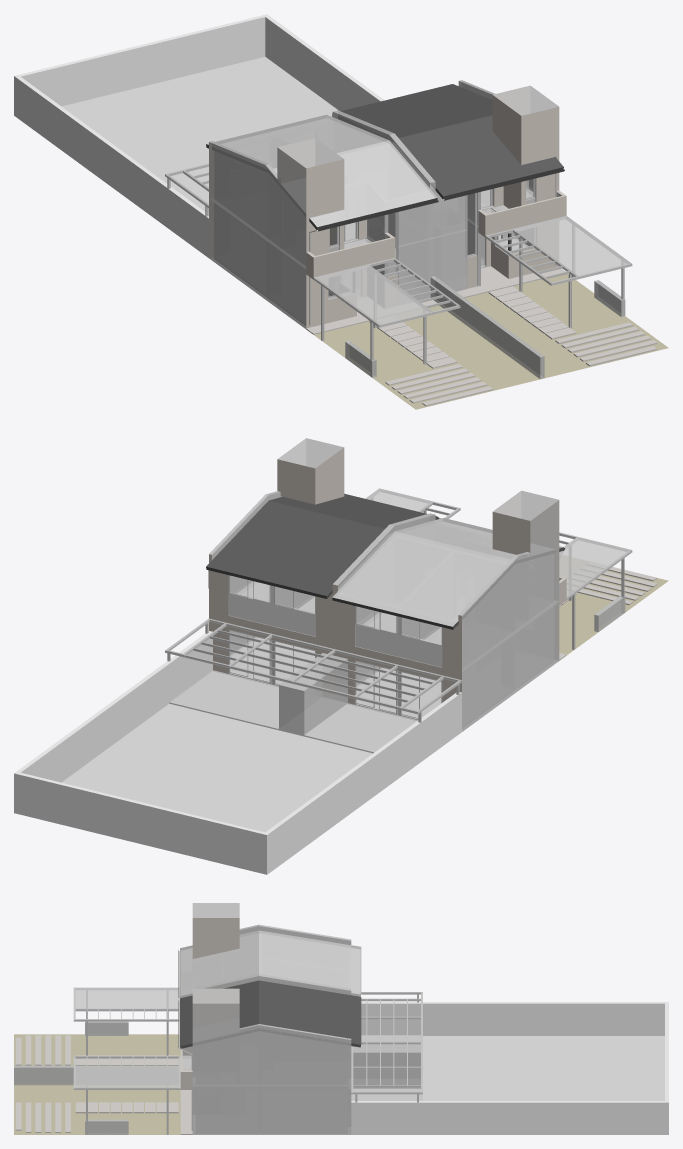
File: obra-porta.glb
3 views of the same model, one above another, from view 1: azimuth 30°, elevation 25°; view 2: azimuth 150°, elevation 25°; view 3: azimuth 270°, elevation 25° (orthographic). The views are drawn at different scales.
Parts seen in each view (by area): view 1: Node1187, Node1188, Node509, Node506, Node635, Node858, Node11, Node854, Node759, Node10, Node857, Node863 (+30 smaller); view 2: Node1187, Node505, Node857, Node853, Node851, Node506, Node477, Node502, Node269, Node635, Node11, Node759 (+35 smaller); view 3: Node1187, Node504, Node508, Node829, Node1188, Node31, Node816, Node35, Node857, Node853, Node851, Node854 (+33 smaller).
Boxes of the visible parts, box(x1,y1,x2,y2) form: Node1187: box(61, 56, 337, 213); Node1188: box(314, 274, 668, 409); Node509: box(21, 17, 265, 106); Node506: box(14, 76, 208, 257); Node635: box(209, 142, 306, 269); Node858: box(399, 115, 563, 196); Node11: box(209, 199, 306, 329); Node854: box(273, 140, 437, 227); Node759: box(213, 142, 305, 264); Node10: box(214, 205, 305, 322); Node857: box(341, 84, 492, 137); Node863: box(313, 144, 433, 226); Node1187: box(62, 703, 372, 832); Node505: box(14, 773, 266, 874); Node857: box(206, 500, 384, 595); Node853: box(332, 531, 510, 626); Node851: box(336, 536, 506, 625); Node506: box(267, 693, 461, 874); Node477: box(169, 670, 417, 752); Node502: box(21, 638, 212, 782); Node269: box(170, 672, 415, 752); Node635: box(462, 545, 559, 672); Node11: box(462, 602, 559, 731); Node759: box(460, 553, 553, 667); Node1187: box(423, 1036, 664, 1100); Node504: box(351, 1102, 668, 1134); Node508: box(361, 1003, 664, 1035); Node829: box(192, 1025, 351, 1086); Node1188: box(14, 1034, 180, 1134); Node31: box(192, 1086, 351, 1134); Node816: box(196, 1024, 350, 1084); Node35: box(196, 1089, 347, 1132); Node857: box(259, 980, 361, 1044); Node853: box(259, 930, 361, 994); Node851: box(260, 934, 359, 995); Node854: box(180, 930, 258, 995).
Bounding box in the file's own units: 475 × 287 × 1299.
